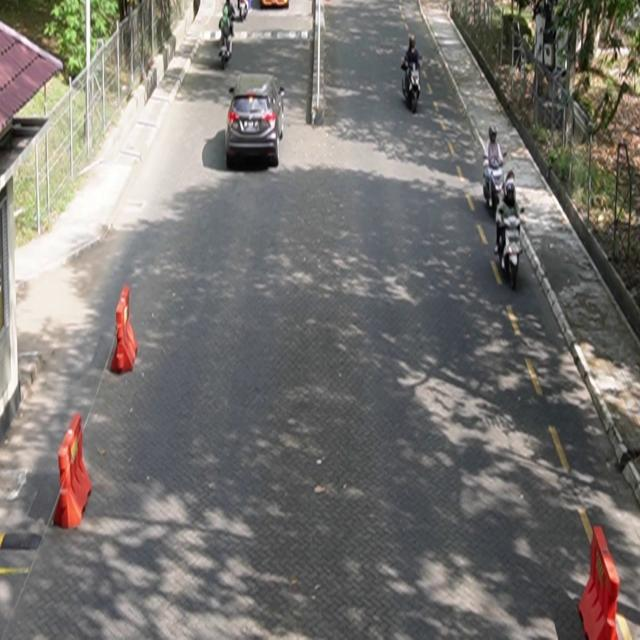car: (226, 74, 286, 170)
